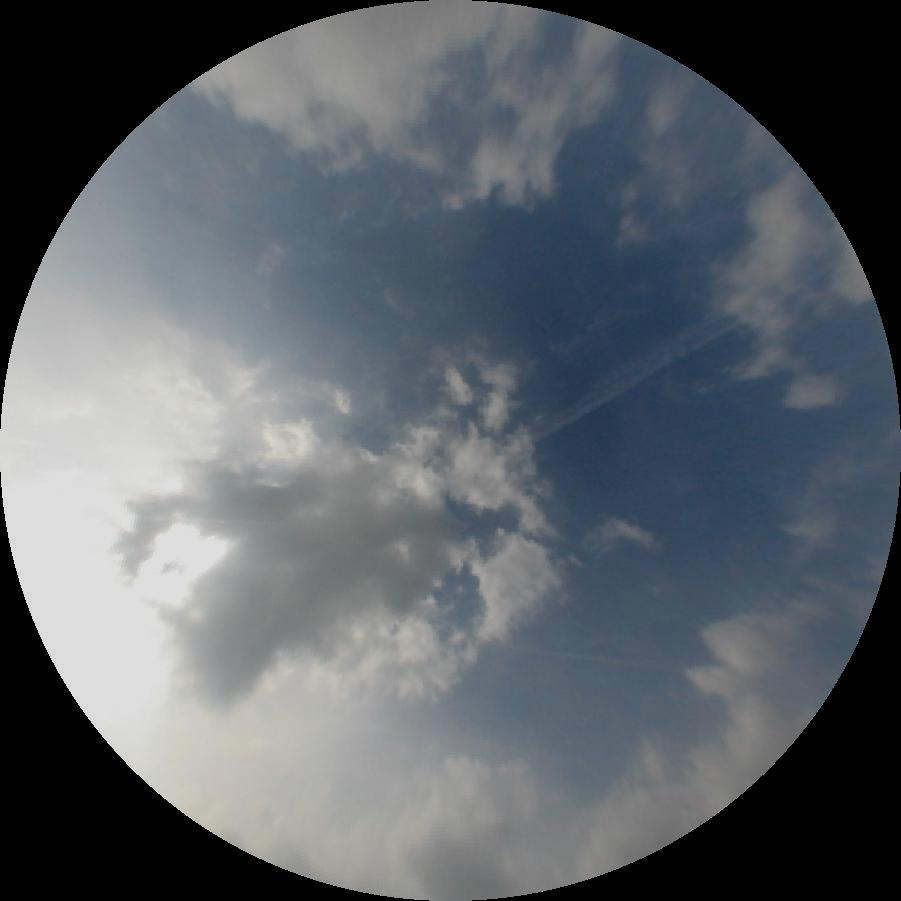contrail old: (494, 643, 681, 675)
contrail veryold: (521, 302, 739, 442)
sun: (0, 449, 238, 756)
